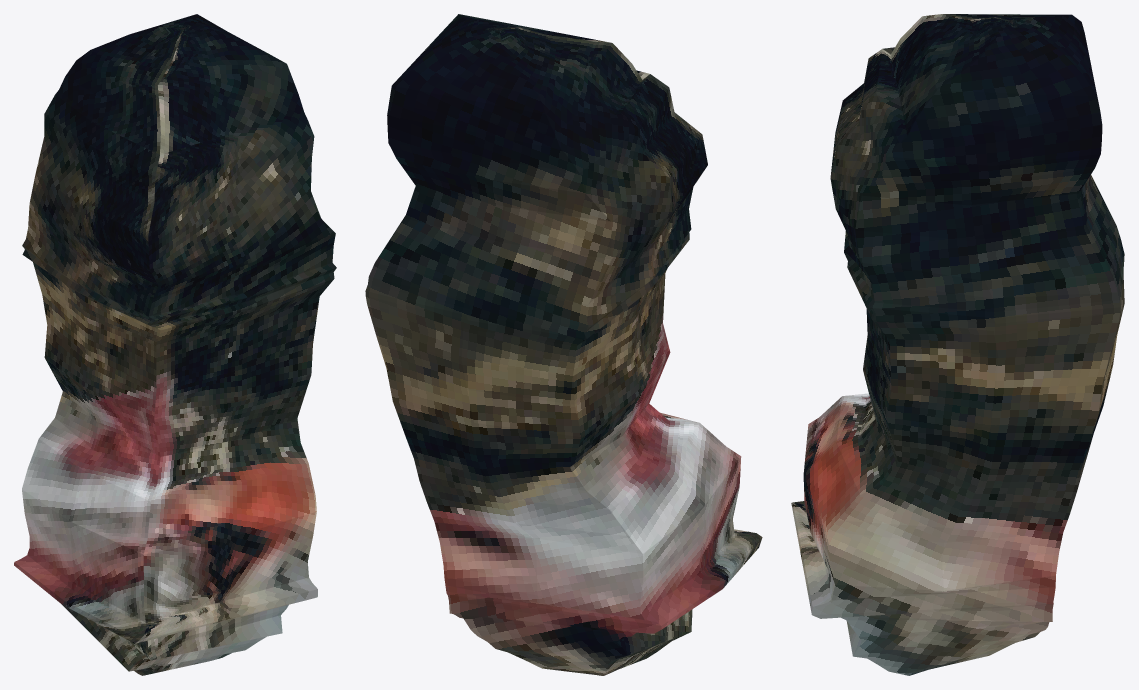
Rendered from metamorphosis_v3.1_t.glb.
3 renders of one model, left to right at view 1: azimuth 30°, elevation 25°; view 2: azimuth 150°, elevation 25°; view 3: azimuth 270°, elevation 25°, orthographic. The views are drawn at different scales.
Parts seen in each view (by area): view 1: Cube; view 2: Cube; view 3: Cube.
Part boxes in pixels (bbox=[...]): Cube: bbox=[14, 14, 336, 675]; Cube: bbox=[365, 14, 762, 675]; Cube: bbox=[791, 14, 1124, 675].
Size of the model in its own units: 1.96 by 4.36 by 1.98.
2 materials, 2 textured.
